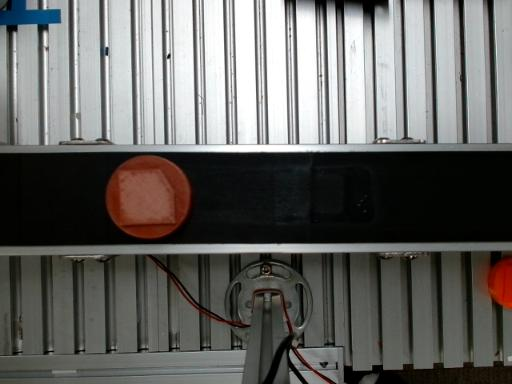Brown_Waper: (106, 155, 191, 239)
Not_Square: (117, 168, 178, 225)
